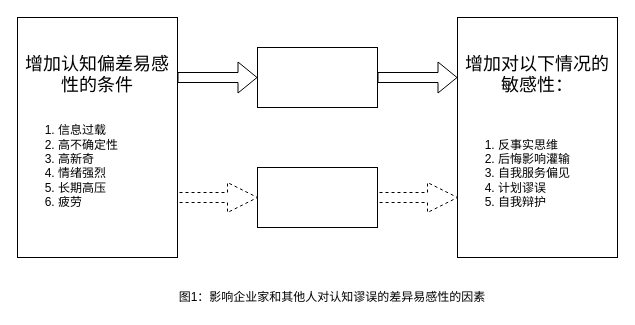
The diagram is 635 pixels wide and 325 high, and some of its shapes have lost their labels. The centre of each missing label's shape, as x and y in pixels:
"企业家经常面临" goes at (x=317, y=77).
"其他人很少面临" goes at (x=317, y=197).
